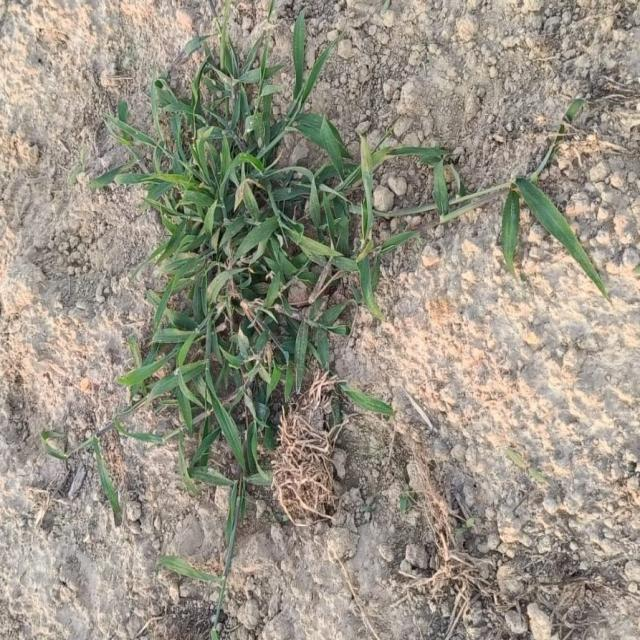weed: (90, 12, 608, 624)
